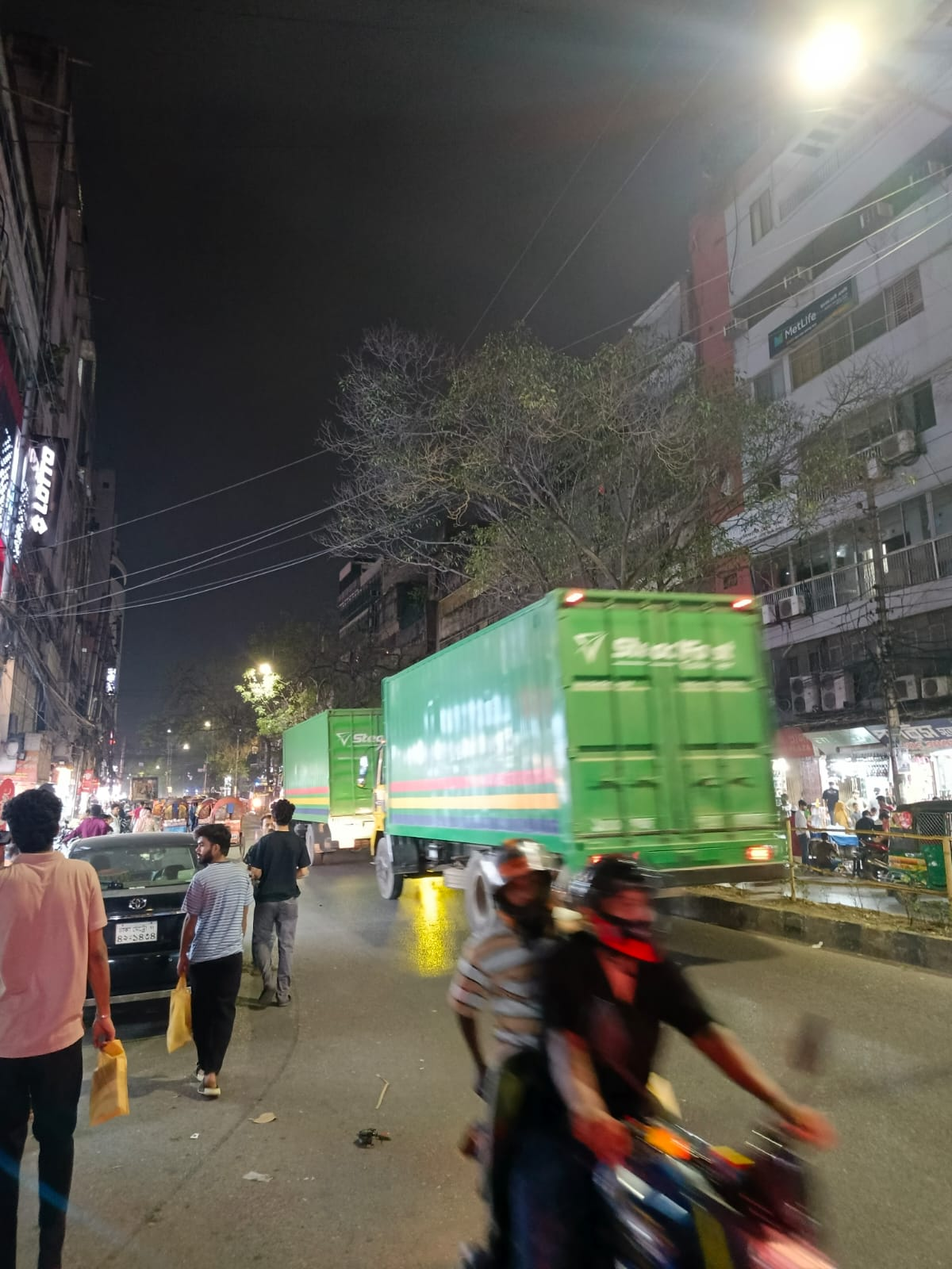Bikes: (434, 799, 886, 1269)
Truck: (362, 587, 869, 919), (246, 672, 427, 891)
cng: (878, 775, 952, 915)
private car: (42, 804, 317, 1073)
